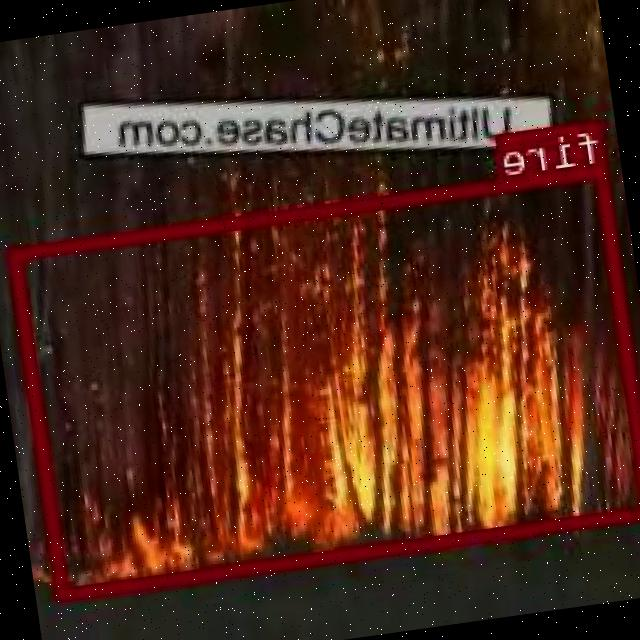fire: (11, 164, 640, 597)
